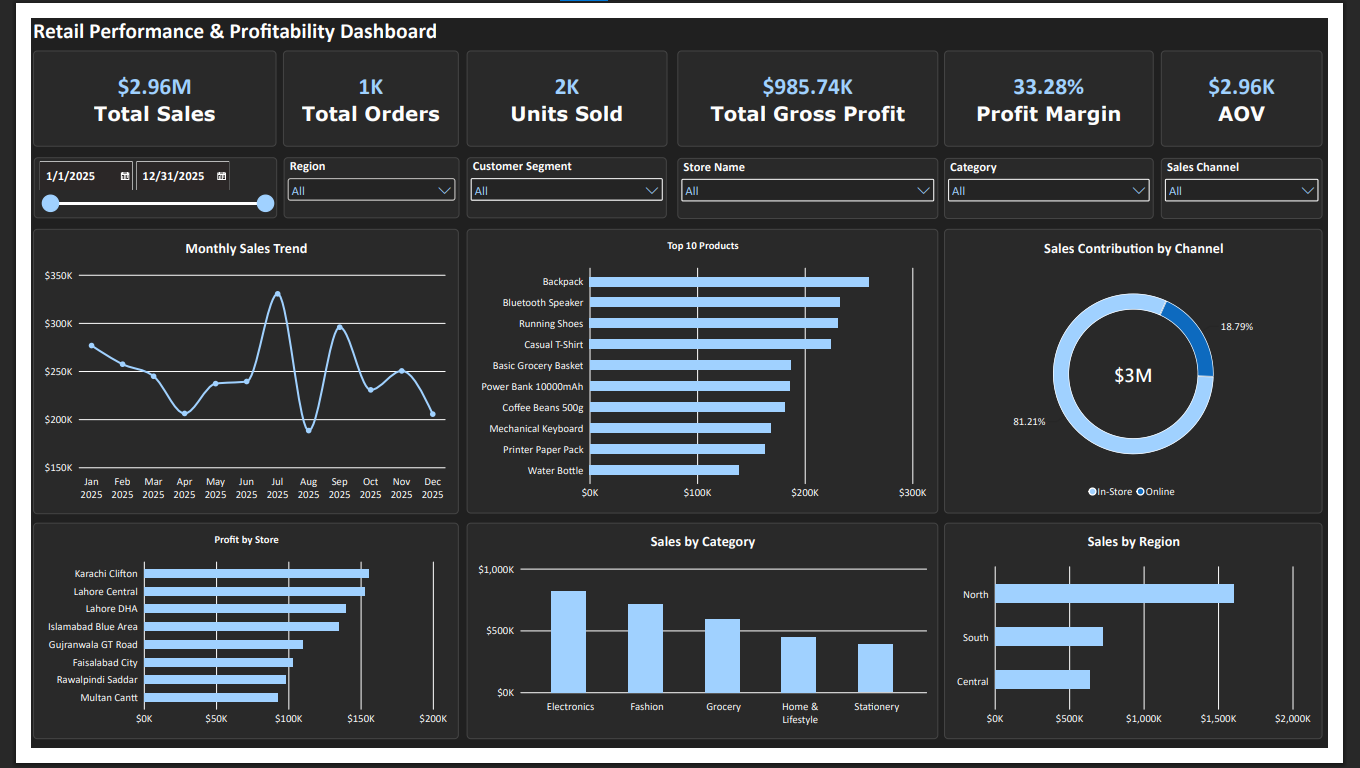

Layout of this report page (visuals, bound fields, positions):
{"tool":"powerbi","page":{"name":"Executive Overview","canvas":[1920,1080],"ordinal":0},"visuals":[{"type":"cardVisual","fields":{"Data":["MeasureTable.Total Sales"]},"box":[3.3,48.3,360,141.7],"z":0},{"type":"cardVisual","fields":{"Data":["MeasureTable.Total Gross Profit"]},"box":[956.7,48.3,386.7,141.7],"z":1000},{"type":"cardVisual","fields":{"Data":["MeasureTable.Total Orders"]},"box":[373.3,48.3,260,141.7],"z":2000},{"type":"cardVisual","fields":{"Data":["MeasureTable.Units Sold"]},"box":[645,48.3,296.7,141.7],"z":3000},{"type":"cardVisual","fields":{"Data":["MeasureTable.Profit Margin %"]},"box":[1351.7,48.3,310,141.7],"z":4000},{"type":"cardVisual","fields":{"Data":["MeasureTable.AOV"]},"box":[1673.3,48.3,238.3,141.7],"z":5000},{"type":"slicer","fields":{"Values":["DateTable.Date"]},"box":[3.6,205.9,360,90],"z":6000},{"type":"slicer","title":"Region","fields":{"Values":["RetailSales.Region"]},"box":[373.8,205.9,260,90],"z":7000},{"type":"slicer","fields":{"Values":["RetailSales.Category"]},"box":[1351.7,206.7,310,90],"z":8000},{"type":"slicer","fields":{"Values":["RetailSales.Store_Name"]},"box":[956.7,206.7,386.7,90],"z":9000},{"type":"slicer","fields":{"Values":["RetailSales.Customer_Segment"]},"box":[644.7,205.9,296.2,90.3],"z":10000},{"type":"slicer","fields":{"Values":["RetailSales.Sales_Channel"]},"box":[1673.3,206.7,238.3,90],"z":11000},{"type":"lineChart","title":"Monthly Sales Trend","fields":{"Y":["MeasureTable.Total Sales"],"Category":["DateTable.Month Year"]},"box":[3.3,311.7,630,422],"z":12000},{"type":"clusteredColumnChart","title":"Sales by Category","fields":{"Category":["RetailSales.Category"],"Y":["MeasureTable.Total Sales"]},"box":[645,746.7,698.3,320],"z":13000},{"type":"barChart","title":"Profit by Store","fields":{"Category":["RetailSales.Store_Name"],"Y":["MeasureTable.Total Gross Profit"]},"box":[3.3,746.7,630,320],"z":14000},{"type":"barChart","title":"Top 10 Products","fields":{"Category":["RetailSales.Product_Name"],"Y":["MeasureTable.Total Sales"]},"box":[645,311.7,698.3,421.7],"z":15000},{"type":"barChart","title":"Sales by Region","fields":{"Category":["RetailSales.Region"],"Y":["MeasureTable.Total Sales"]},"box":[1351.7,746.7,560,320],"z":16000},{"type":"donutChart","title":"Sales Contribution by Channel","fields":{"Category":["RetailSales.Sales_Channel"],"Y":["MeasureTable.Total Sales"]},"box":[1351.7,311.7,560,421.7],"z":17000},{"type":"textbox","box":[3.3,0,710,48.3],"z":18000}]}

Visuals, with their boxes in screenshot pixels (x1, y1, x2, y2), scaled from the page's 1920x1080 canvas onto the 1360x768 screenshot:
cardVisual - MeasureTable.Total Sales: 2:34:257:135
cardVisual - MeasureTable.Total Gross Profit: 678:34:952:135
cardVisual - MeasureTable.Total Orders: 264:34:449:135
cardVisual - MeasureTable.Units Sold: 457:34:667:135
cardVisual - MeasureTable.Profit Margin %: 957:34:1177:135
cardVisual - MeasureTable.AOV: 1185:34:1354:135
slicer - DateTable.Date: 3:146:258:210
"Region" slicer: 265:146:449:210
slicer - RetailSales.Category: 957:147:1177:211
slicer - RetailSales.Store_Name: 678:147:952:211
slicer - RetailSales.Customer_Segment: 457:146:666:211
slicer - RetailSales.Sales_Channel: 1185:147:1354:211
"Monthly Sales Trend" lineChart: 2:222:449:522
"Sales by Category" clusteredColumnChart: 457:531:952:759
"Profit by Store" barChart: 2:531:449:759
"Top 10 Products" barChart: 457:222:952:522
"Sales by Region" barChart: 957:531:1354:759
"Sales Contribution by Channel" donutChart: 957:222:1354:522
textbox: 2:0:505:34
